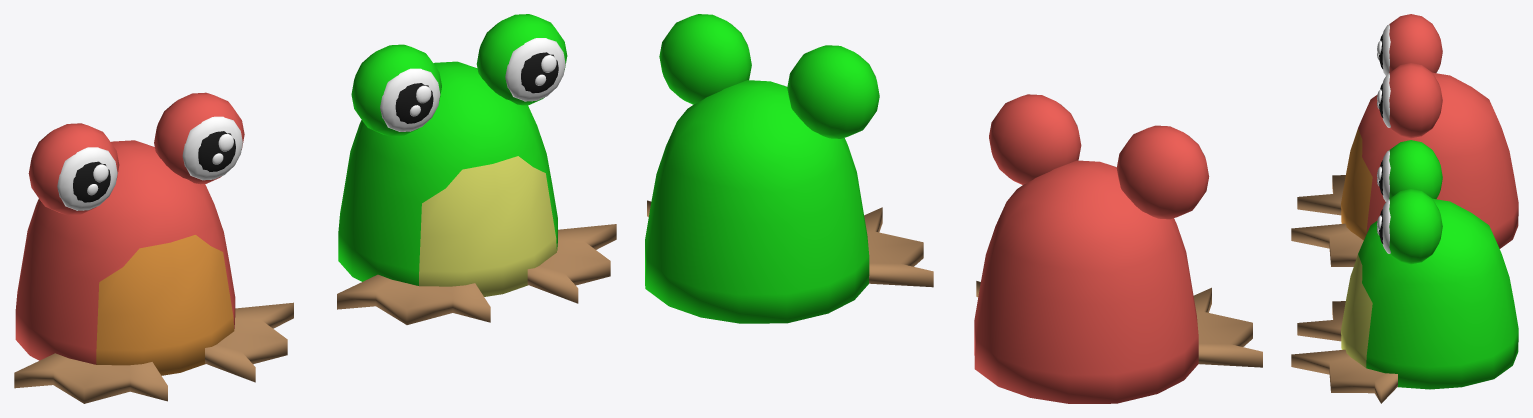
Rendered from frogs.fbx.
3 renders of one model, left to right at view 1: azimuth 30°, elevation 25°; view 2: azimuth 150°, elevation 25°; view 3: azimuth 270°, elevation 25°, orthographic. The views are drawn at different scales.
Parts seen in each view (by area): view 1: Roundcube.001, Roundcube.002; view 2: Roundcube.002, Roundcube.001; view 3: Roundcube.002, Roundcube.001.
Part boxes in pixels (bbox=[...]): Roundcube.001: bbox=[14, 92, 293, 403]; Roundcube.002: bbox=[337, 14, 616, 324]; Roundcube.002: bbox=[645, 14, 933, 323]; Roundcube.001: bbox=[974, 94, 1262, 403]; Roundcube.002: bbox=[1291, 140, 1518, 403]; Roundcube.001: bbox=[1291, 14, 1518, 266].
Size of the model in its own units: 9.37 by 3.45 by 3.83.
